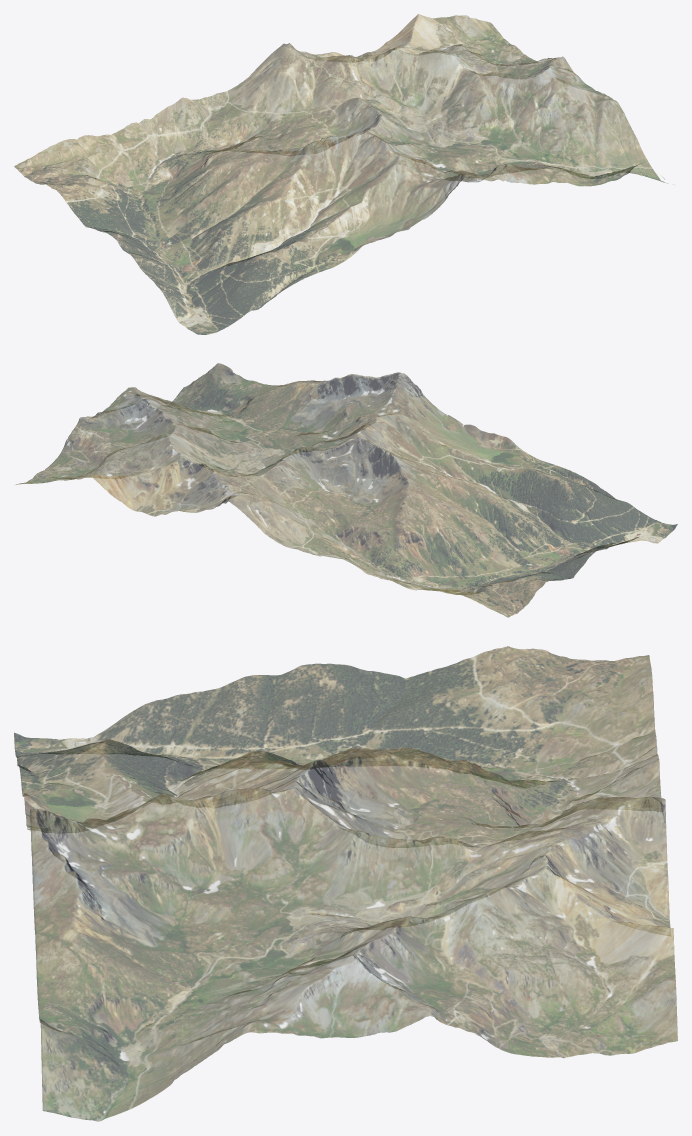
File: NewSAT.glb
3 views of the same model, one above another, from view 1: azimuth 30°, elevation 25°; view 2: azimuth 150°, elevation 25°; view 3: azimuth 270°, elevation 25° (orthographic). The views are drawn at different scales.
Visible parts, largest first — view 1: ScaleAdjustedAerial; view 2: ScaleAdjustedAerial; view 3: ScaleAdjustedAerial.
Part boxes in pixels (<box>): ScaleAdjustedAerial: <box>14,14,667,334</box>; ScaleAdjustedAerial: <box>16,363,677,617</box>; ScaleAdjustedAerial: <box>14,646,677,1121</box>.
Size of the model in its own units: 63.93 by 12.17 by 41.82.
1 material, 1 textured.
